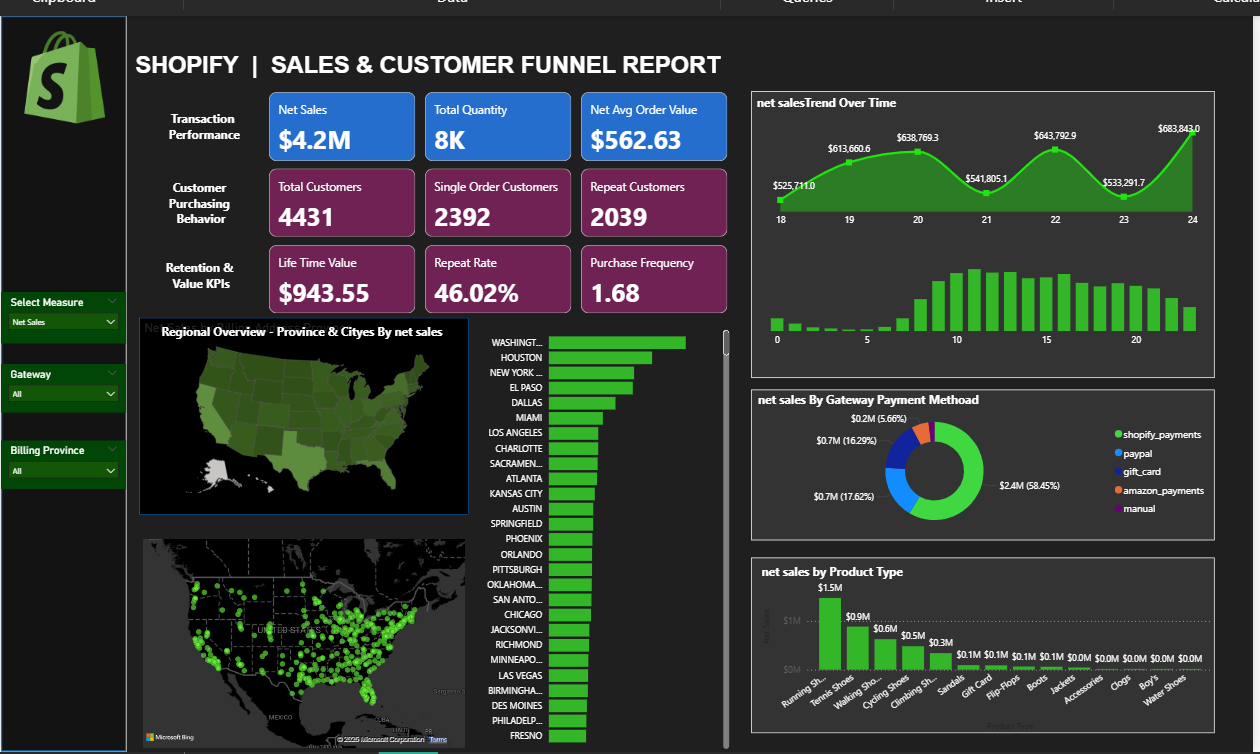

The dashboard page shown, as its layout file describes it:
{"tool":"powerbi","page":{"name":"Shopify Analysis","canvas":[1700,1000],"ordinal":0},"visuals":[{"type":"shape","box":[0,0,170.8,1000],"z":0},{"type":"cardVisual","fields":{"Data":["shopify_sales.Net Sales","shopify_sales.Total Quantity","shopify_sales.Net Avg Order Value"]},"box":[359,97.8,634,104],"z":0,"group":"g1"},{"type":"textbox","box":[178.1,43.8,965.2,73.8],"z":1000},{"type":"group","id":"g1","title":"Group 1","box":[358.5,97.8,635.5,311.3],"z":2000},{"type":"cardVisual","fields":{"Data":["shopify_sales.Total Customers","shopify_sales.Single Order Customers","shopify_sales.Repeat Customers"]},"box":[358.5,201.8,634.5,103.6],"z":2000,"group":"g1"},{"type":"card","fields":{"Values":["shopify_sales.Transaction Perf"]},"box":[177.1,105.7,197.1,87.1],"z":3000},{"type":"card","fields":{"Values":["shopify_sales.Customer Purchasing Behavior"]},"box":[186.9,201.2,167.5,98.1],"z":4000},{"type":"cardVisual","fields":{"Data":["shopify_sales.Life Time Value","shopify_sales.Repeat Rate","shopify_sales.Purchase Frequency"]},"box":[359.4,305.4,634.5,103.6],"z":4000,"group":"g1"},{"type":"card","fields":{"Values":["shopify_sales.Retention & Value KPIs"]},"box":[197.8,313.3,147.8,75.6],"z":5000},{"type":"slicer","fields":{"Values":["Select Measure.Select Measure"]},"box":[0,374.4,170,70],"z":6000},{"type":"map","fields":{"Category":["shopify_sales.Location 1"]},"box":[188,706,448,294],"z":7000},{"type":"shape","box":[188,410,448,268],"z":8000},{"type":"shapeMap","fields":{"Category":["shopify_sales.Billing Address Province"],"Value":["shopify_sales.Net Sales"]},"box":[190,414,454,250],"z":9000},{"type":"clusteredBarChart","fields":{"Y":["shopify_sales.Net Sales"],"Category":["shopify_sales.CITY"]},"box":[643.3,413.3,350,586.7],"z":10000},{"type":"card","fields":{"Values":["shopify_sales.Map Title"]},"box":[178,404,458,54],"z":11000},{"type":"shape","box":[1020,101.8,630,390],"z":12000},{"type":"areaChart","fields":{"Y":["shopify_sales.Net Sales"],"Category":["shopify_sales.Invoice Date.Variation.Date Hierarchy.Day"]},"box":[1042.5,135,590,160],"z":13000},{"type":"columnChart","fields":{"Y":["shopify_sales.Net Sales"],"Category":["shopify_sales.Hour"]},"box":[1040,308.6,590,150],"z":14000},{"type":"card","fields":{"Values":["shopify_sales.Trend Title"]},"box":[1012.5,92.5,216.2,55],"z":15000},{"type":"shape","box":[1020,506.7,630,205],"z":16000},{"type":"donutChart","fields":{"Y":["shopify_sales.Net Sales"],"Category":["shopify_sales.Gateway"]},"box":[1020,527.1,630,180],"z":17000},{"type":"card","fields":{"Values":["shopify_sales.Gateway Title"]},"box":[1020,495.5,318.2,56.4],"z":18000},{"type":"shape","box":[1020,736.2,630,238.8],"z":19000},{"type":"columnChart","fields":{"Y":["shopify_sales.Net Sales"],"Category":["shopify_sales.Product Type"]},"box":[1028.8,756.2,621.2,218.8],"z":20000},{"type":"card","fields":{"Values":["shopify_sales.Product Title"]},"box":[996.7,728.9,264.4,54.4],"z":21000},{"type":"image","box":[15.7,7.1,140,150],"z":22000},{"type":"slicer","fields":{"Values":["shopify_sales.Gateway"]},"box":[0,473.3,170,66],"z":23000},{"type":"slicer","fields":{"Values":["shopify_sales.Billing Address Province"]},"box":[0,576,170,66],"z":24000}]}

Visuals, with their boxes in screenshot pixels (x1, y1, x2, y2):
shape: bbox(0, 0, 130, 738)
cardVisual - shopify_sales.Net Sales x shopify_sales.Total Quantity: bbox(272, 54, 752, 133)
textbox: bbox(135, 13, 866, 69)
"Group 1" group: bbox(272, 54, 753, 290)
cardVisual - shopify_sales.Total Customers x shopify_sales.Single Order Customers: bbox(272, 133, 752, 212)
card - shopify_sales.Transaction Perf: bbox(134, 60, 284, 126)
card - shopify_sales.Customer Purchasing Behavior: bbox(142, 133, 269, 207)
cardVisual - shopify_sales.Life Time Value x shopify_sales.Repeat Rate: bbox(272, 212, 753, 290)
card - shopify_sales.Retention & Value KPIs: bbox(150, 218, 262, 275)
slicer - Select Measure.Select Measure: bbox(0, 264, 129, 317)
map - shopify_sales.Location 1: bbox(143, 515, 482, 738)
shape: bbox(143, 291, 482, 494)
shapeMap - shopify_sales.Billing Address Province x shopify_sales.Net Sales: bbox(144, 294, 488, 483)
clusteredBarChart - shopify_sales.Net Sales x shopify_sales.CITY: bbox(487, 293, 753, 738)
card - shopify_sales.Map Title: bbox(135, 286, 482, 327)
shape: bbox(773, 57, 1250, 353)
areaChart - shopify_sales.Net Sales x shopify_sales.Invoice Date.Variation.Date Hierarchy.Day: bbox(790, 83, 1237, 204)
columnChart - shopify_sales.Net Sales x shopify_sales.Hour: bbox(788, 214, 1235, 328)
card - shopify_sales.Trend Title: bbox(767, 50, 931, 92)
shape: bbox(773, 364, 1250, 520)
donutChart - shopify_sales.Net Sales x shopify_sales.Gateway: bbox(773, 380, 1250, 516)
card - shopify_sales.Gateway Title: bbox(773, 356, 1014, 398)
shape: bbox(773, 538, 1250, 719)
columnChart - shopify_sales.Net Sales x shopify_sales.Product Type: bbox(780, 553, 1250, 719)
card - shopify_sales.Product Title: bbox(755, 533, 956, 574)
image: bbox(12, 0, 118, 99)
slicer - shopify_sales.Gateway: bbox(0, 339, 129, 389)
slicer - shopify_sales.Billing Address Province: bbox(0, 417, 129, 467)
